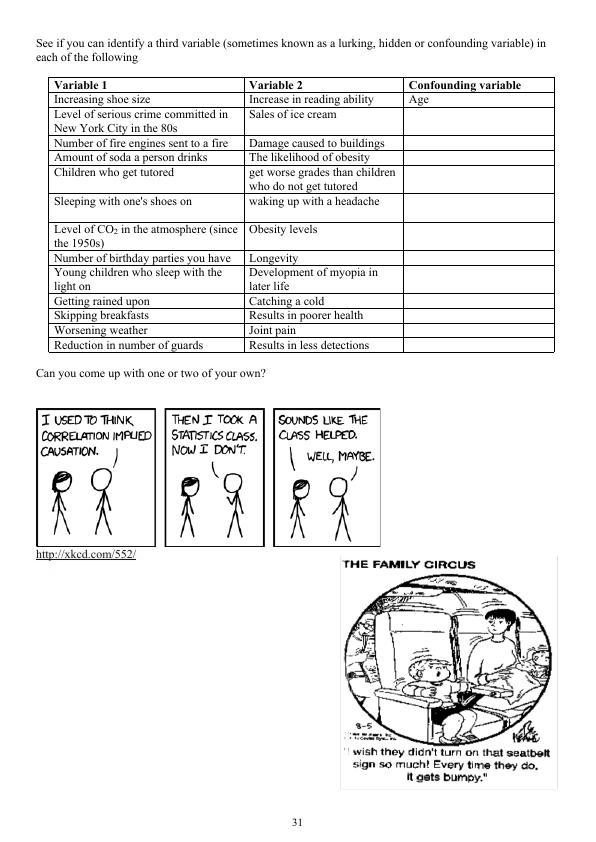table: (44, 72, 561, 358)
text: (28, 32, 554, 65), (33, 365, 269, 386)
